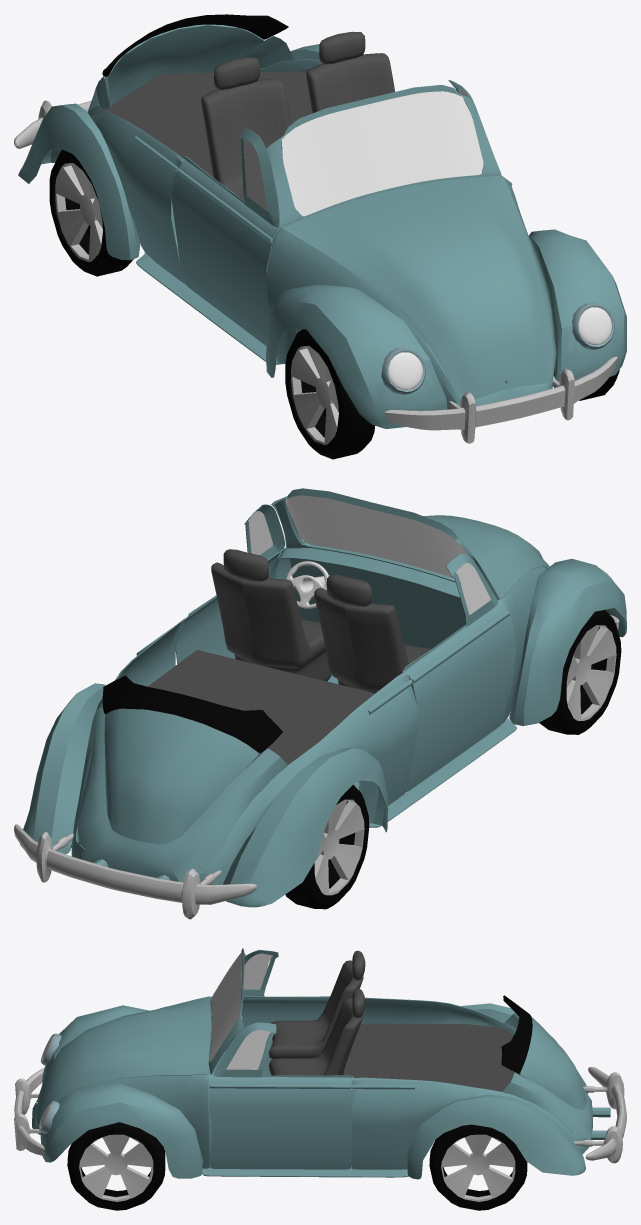
Rendered from vosvos.fbx.
3 renders of one model, top to bottom at view 1: azimuth 30°, elevation 25°; view 2: azimuth 150°, elevation 25°; view 3: azimuth 270°, elevation 25°, orthographic. The views are drawn at different scales.
Visible parts, largest first — view 1: kap depan.001, Cube.002, Plane, Cube.003; view 2: kap depan.001, Plane, Cube.003, Cube.002, Lenker; view 3: kap depan.001, Plane, Cube.002, Cube.003.
Boxes of the visible parts, bbox=[...] form: kap depan.001: bbox=[14, 14, 626, 459]; Cube.002: bbox=[201, 57, 298, 220]; Plane: bbox=[106, 71, 312, 177]; Cube.003: bbox=[306, 31, 394, 113]; kap depan.001: bbox=[14, 488, 626, 919]; Plane: bbox=[147, 650, 375, 768]; Cube.003: bbox=[211, 549, 330, 681]; Cube.002: bbox=[314, 574, 431, 696]; Lenker: bbox=[286, 561, 329, 608]; kap depan.001: bbox=[14, 948, 626, 1210]; Plane: bbox=[343, 1023, 518, 1091]; Cube.002: bbox=[269, 950, 365, 1059]; Cube.003: bbox=[269, 988, 365, 1075].
Bounding box in the file's own units: 260 × 222 × 641.
